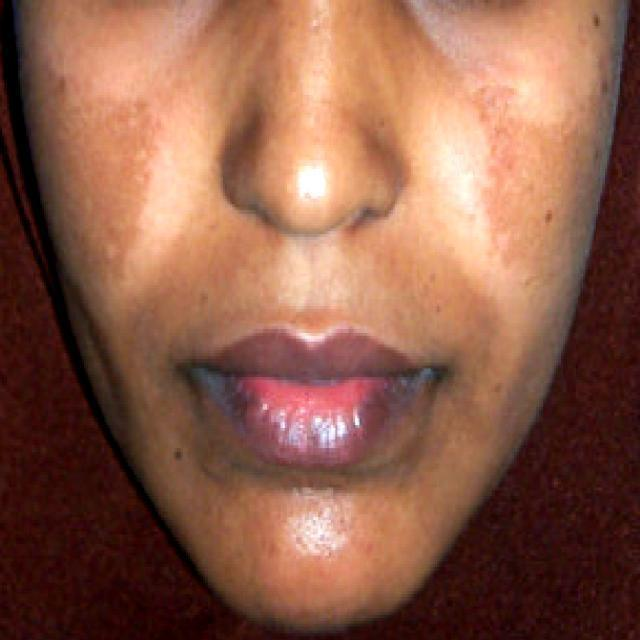Melasma: (26, 63, 158, 278), (472, 102, 608, 273)
